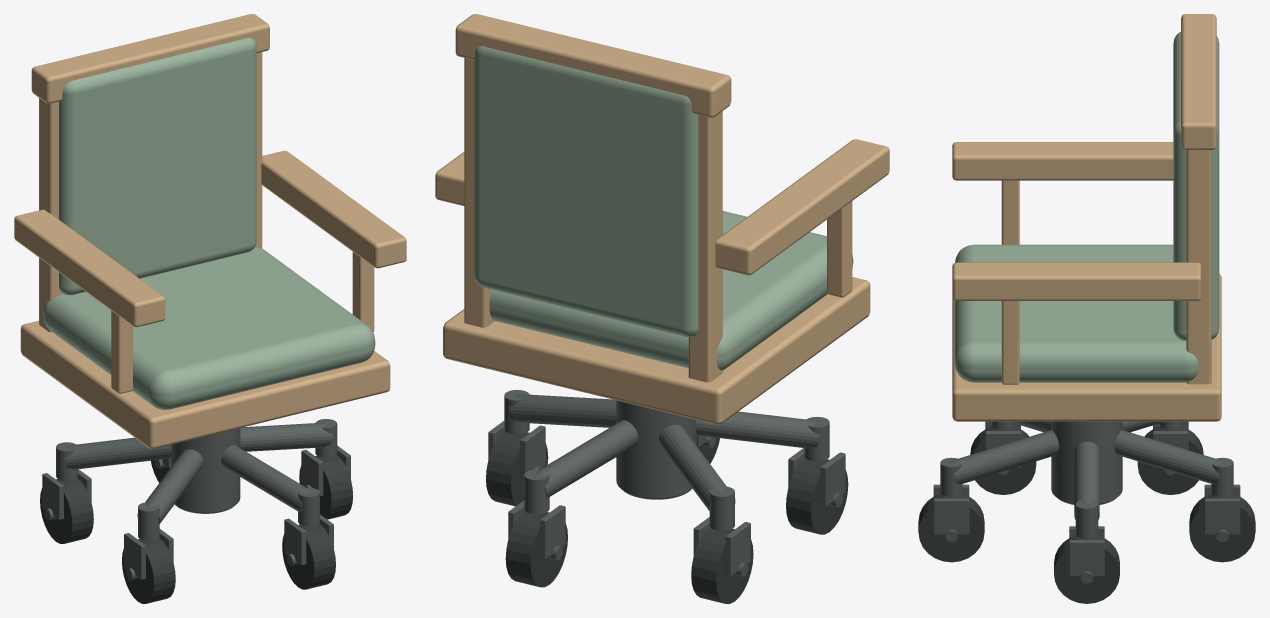
The model's file is public-library-and-reading-garden-public-library-and-r-5adcfbcb__30919.glb.
3 views of the same model, side by side, from view 1: azimuth 30°, elevation 25°; view 2: azimuth 150°, elevation 25°; view 3: azimuth 270°, elevation 25° (orthographic). The views are drawn at different scales.
Visible parts, largest first — view 1: public-library-and-reading-garden-librarian-work-chair; view 2: public-library-and-reading-garden-librarian-work-chair; view 3: public-library-and-reading-garden-librarian-work-chair.
Boxes of the visible parts, <box> form: public-library-and-reading-garden-librarian-work-chair: <box>14,14,406,603</box>; public-library-and-reading-garden-librarian-work-chair: <box>435,14,889,603</box>; public-library-and-reading-garden-librarian-work-chair: <box>918,14,1255,603</box>.
Size of the model in its own units: 0.6425 by 1.02 by 0.6626.
